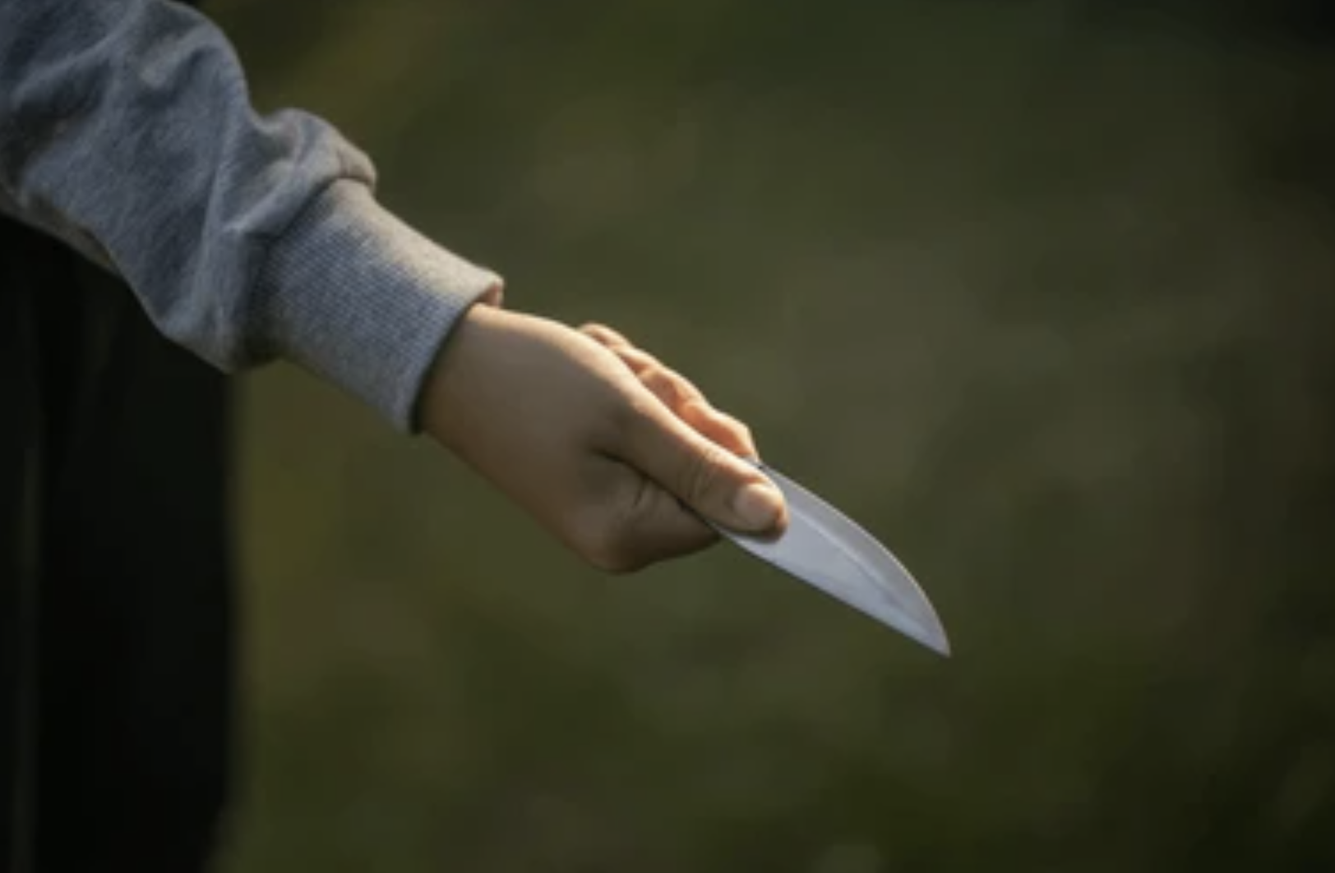knife_69.png: (591, 392, 986, 676)
